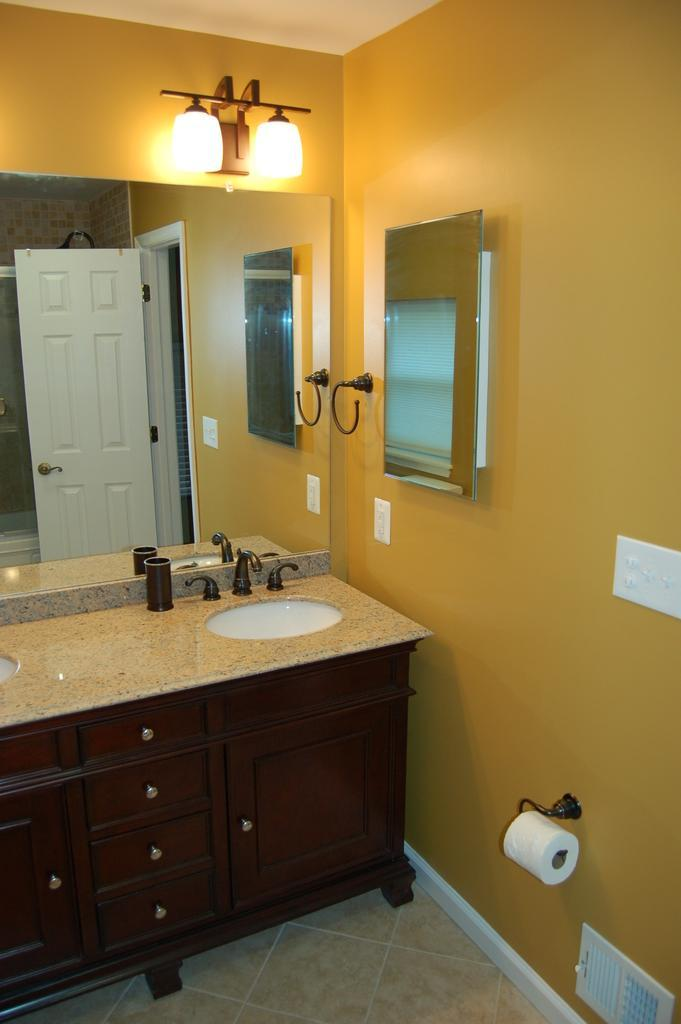door: (38, 259, 140, 542)
handle: (35, 452, 65, 478)
